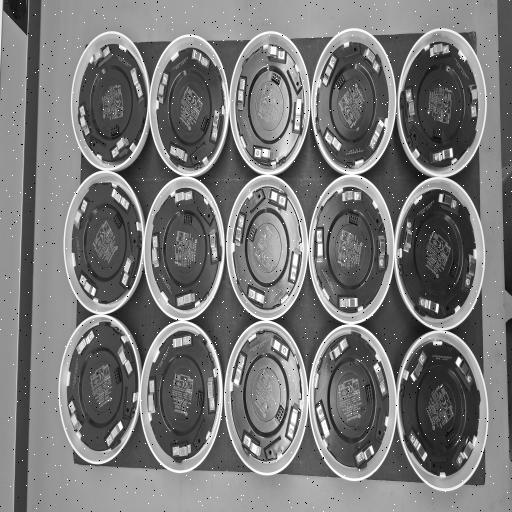konnektor: (248, 223, 258, 244), (444, 428, 456, 445), (112, 212, 123, 230), (199, 114, 209, 133), (449, 260, 459, 279), (276, 404, 286, 423), (432, 128, 445, 142), (348, 212, 359, 228), (336, 73, 346, 90), (364, 383, 372, 403), (181, 214, 194, 226), (271, 71, 282, 85), (110, 122, 120, 137), (195, 390, 203, 408), (114, 367, 122, 385)
yayli: (454, 355, 474, 387), (408, 430, 428, 462), (456, 434, 474, 468), (355, 440, 376, 467), (324, 130, 344, 158), (410, 351, 428, 382), (373, 361, 388, 398), (110, 188, 132, 213), (362, 48, 381, 76), (329, 336, 349, 362), (121, 252, 135, 289), (316, 403, 330, 440), (76, 329, 95, 356), (117, 343, 133, 375), (322, 54, 337, 88), (73, 197, 88, 231), (130, 66, 144, 102), (106, 420, 124, 448), (79, 272, 98, 298), (242, 434, 263, 457), (370, 118, 384, 152), (111, 135, 130, 160), (464, 252, 476, 291), (418, 296, 441, 316), (287, 402, 299, 440), (68, 400, 82, 432), (269, 336, 289, 358), (92, 45, 111, 68), (402, 217, 414, 253), (234, 353, 246, 389), (157, 70, 169, 105), (404, 88, 416, 123), (176, 288, 197, 308), (191, 48, 210, 70), (79, 104, 91, 138), (210, 109, 222, 143), (468, 84, 480, 118), (266, 44, 286, 64), (248, 286, 268, 306), (234, 213, 245, 249), (170, 144, 190, 163), (267, 189, 287, 208), (438, 193, 459, 211), (237, 76, 247, 113), (429, 42, 450, 59), (432, 147, 454, 163), (151, 234, 161, 269), (293, 96, 302, 134), (290, 246, 299, 284), (209, 228, 218, 264), (316, 228, 325, 264), (341, 189, 364, 203), (174, 190, 194, 205), (378, 234, 386, 270), (207, 376, 215, 412), (338, 296, 360, 309), (254, 147, 273, 162), (172, 335, 192, 349), (172, 443, 192, 457), (148, 380, 156, 414)
